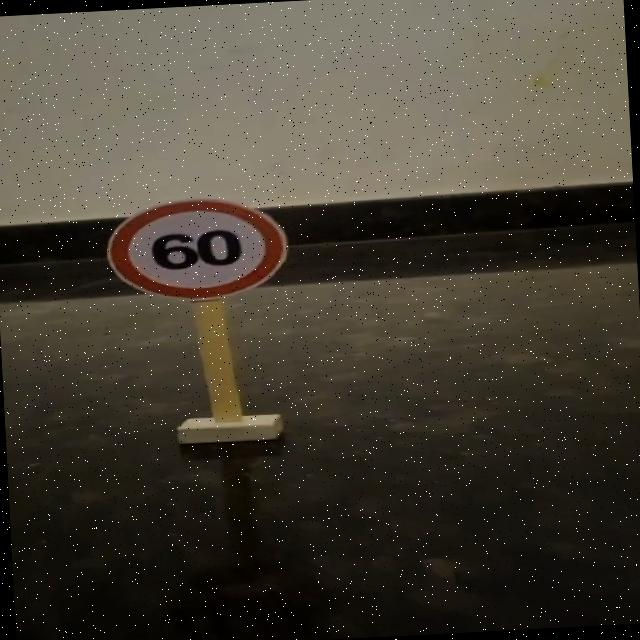Speed60: (99, 190, 295, 308)
